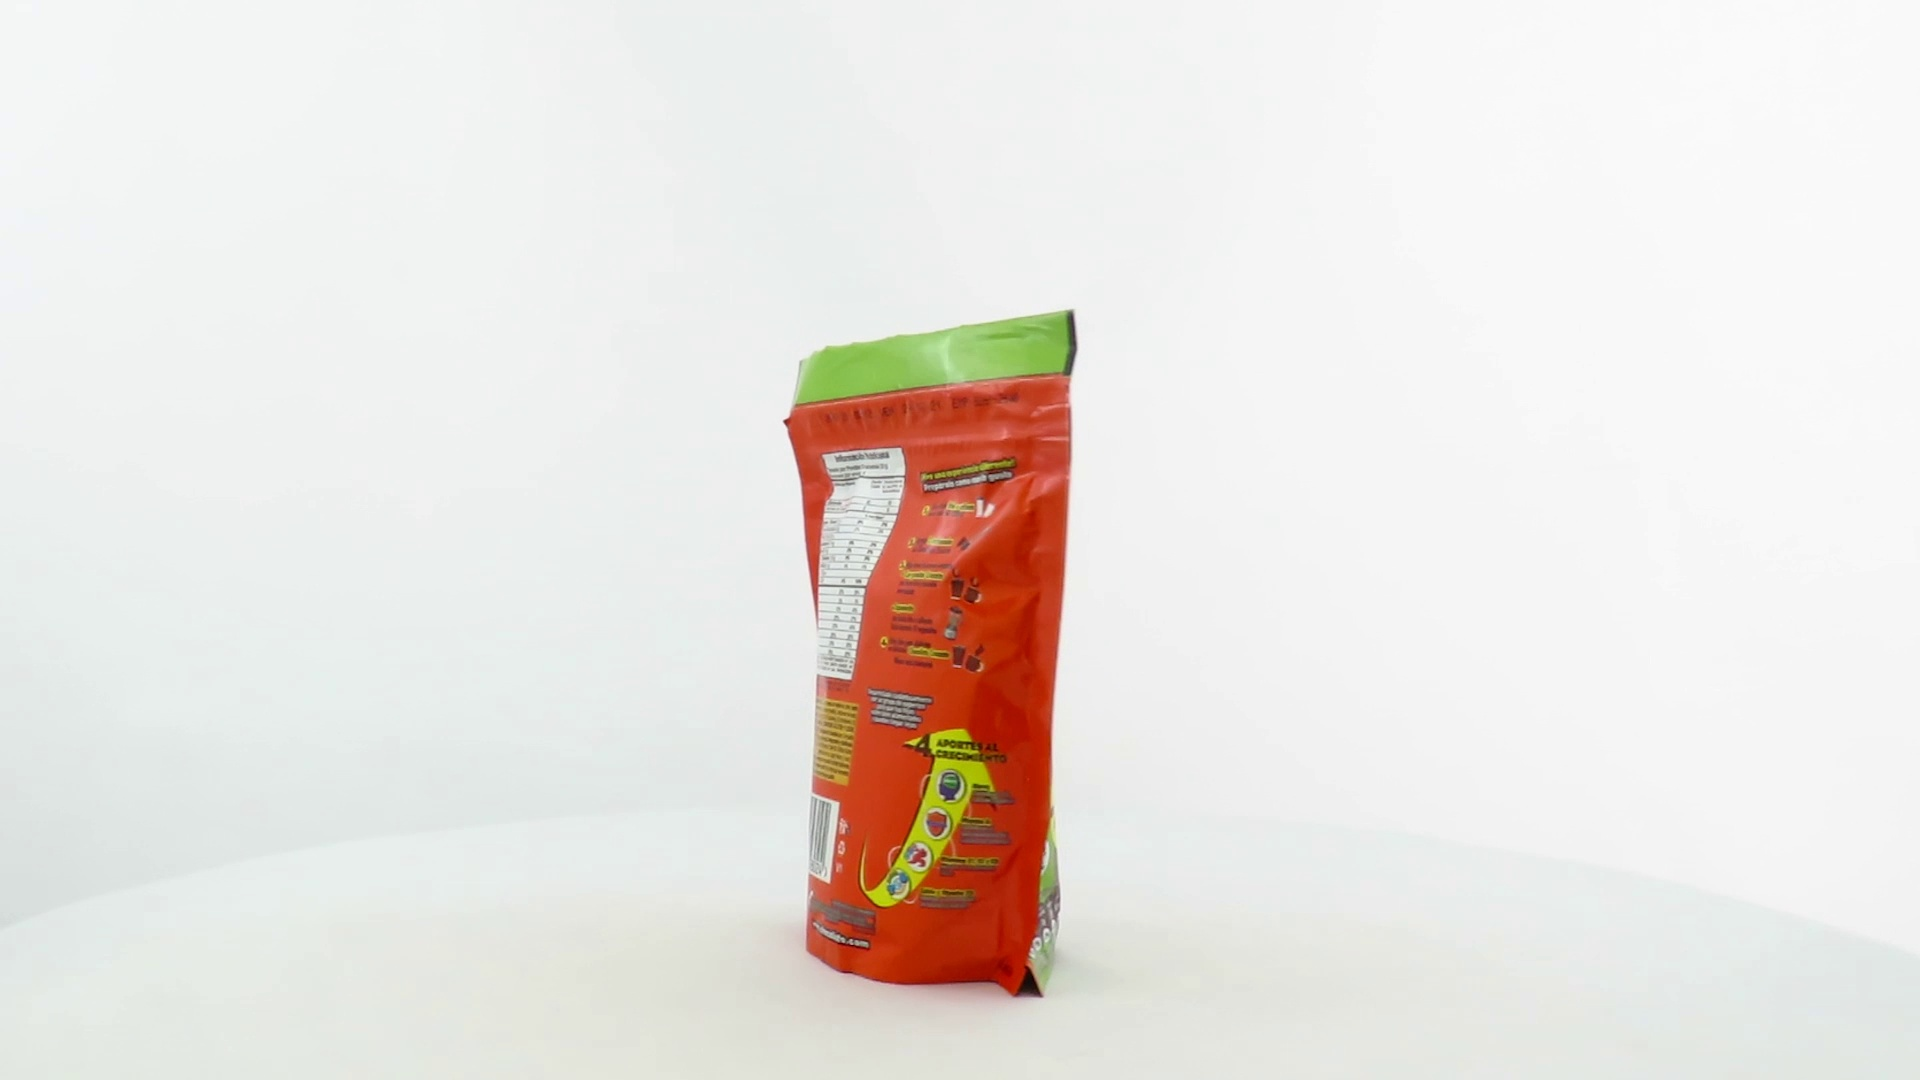COL0170102DYP10000: (778, 305, 1083, 1004)
